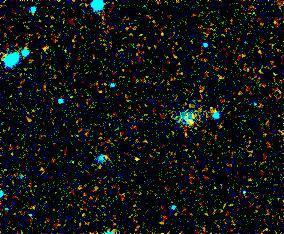star: (123, 141, 153, 171)
